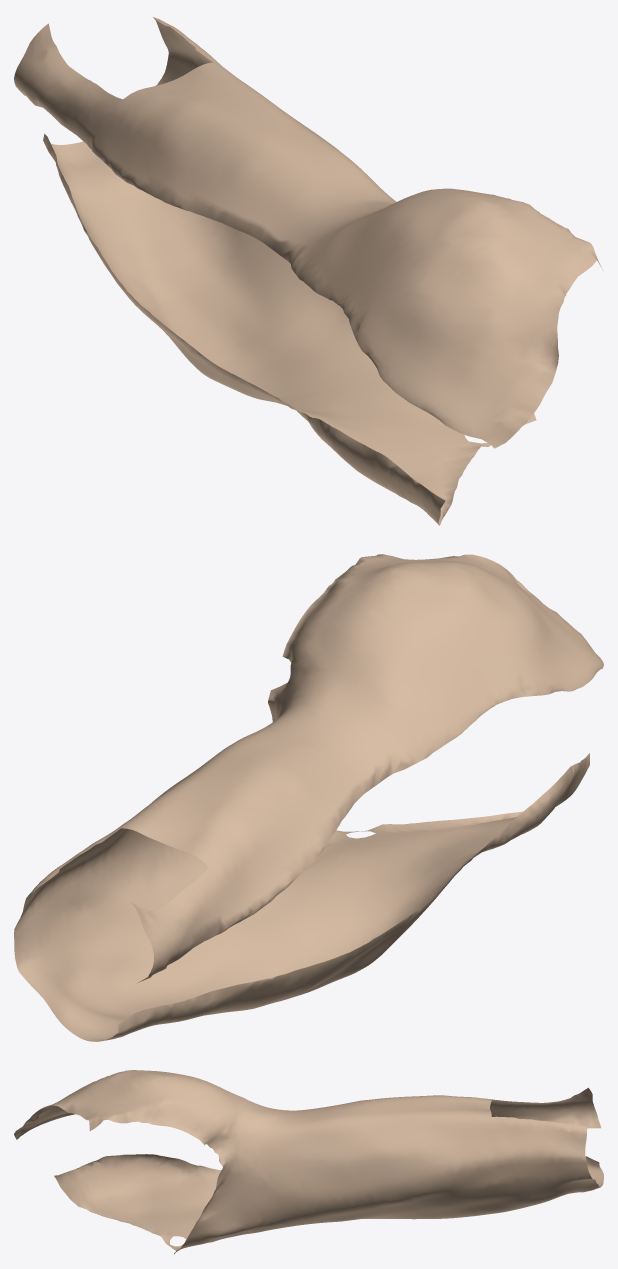
3 renders of one model, top to bottom at view 1: azimuth 30°, elevation 25°; view 2: azimuth 150°, elevation 25°; view 3: azimuth 270°, elevation 25°, orthographic. The views are drawn at different scales.
Parts seen in each view (by area): view 1: 右侧阔筋膜; view 2: 右侧阔筋膜; view 3: 右侧阔筋膜.
Boxes of the visible parts, <box> form: 右侧阔筋膜: <box>14,17,603,525</box>; 右侧阔筋膜: <box>14,554,603,1041</box>; 右侧阔筋膜: <box>14,1070,603,1254</box>.
Bounding box in the file's own units: 0.2348 × 0.258 × 0.8397.
